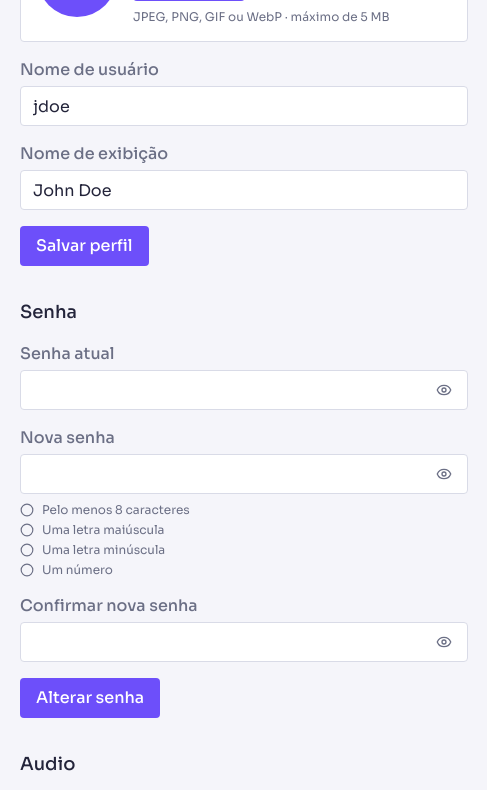
Test: SettingsPage › blocks submission and shows an inline message when new password and confirmation differ
The width and height of the screenshot is (487, 790).
(page scrolled)
Type "oldpassword" into the password field labelled "Senha atual" at (244, 390), box [20,370,468,410]
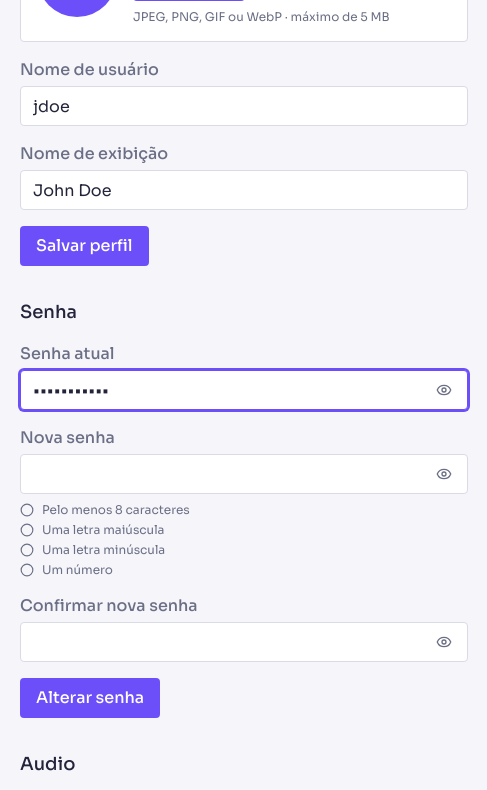
Type "NewPassword1" into the password field labelled "Nova senha" at (244, 474), box [20,454,468,494]
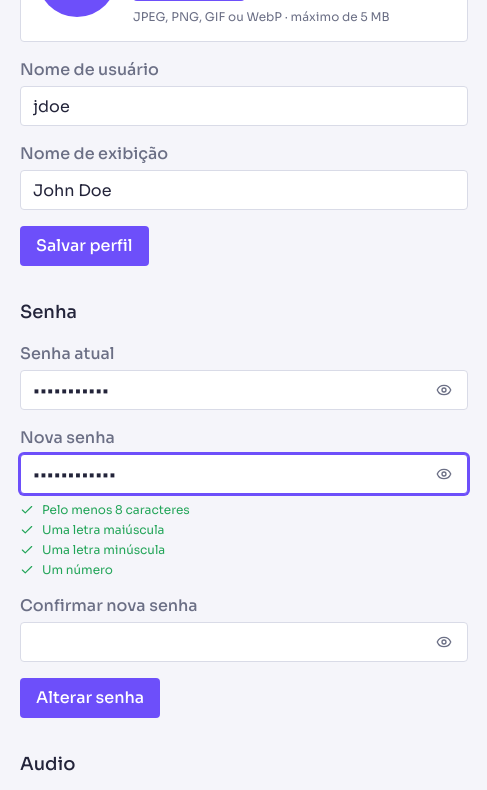
Type "NewPassword2" into the password field labelled "Confirmar nova senha" at (244, 642), box [20,622,468,662]
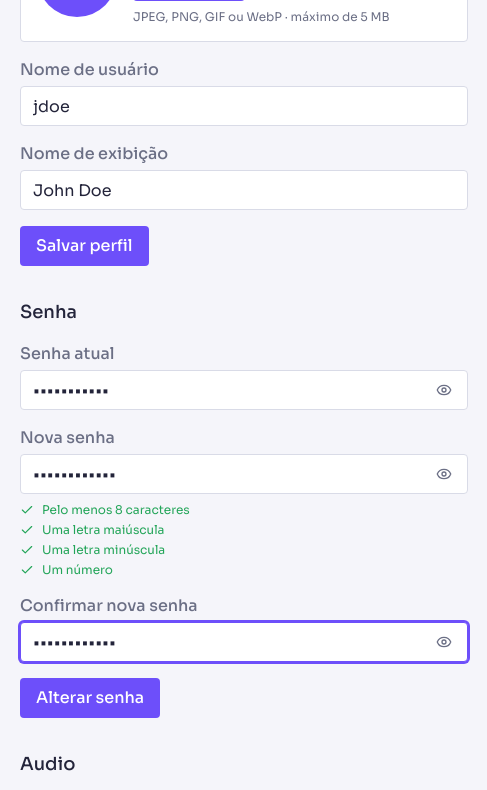
Click the button "Alterar senha" at (90, 698), box [20,678,160,718]
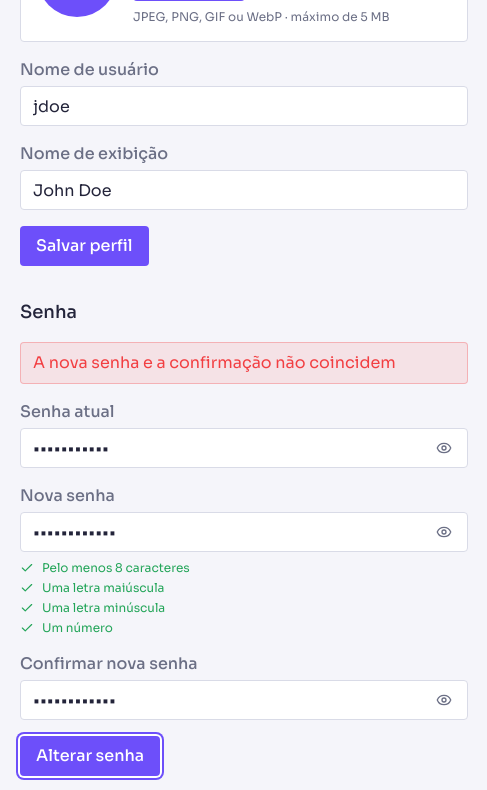
Check: the message reads "A nova senha e a confirmação não coincidem", box [33,352,396,373]
